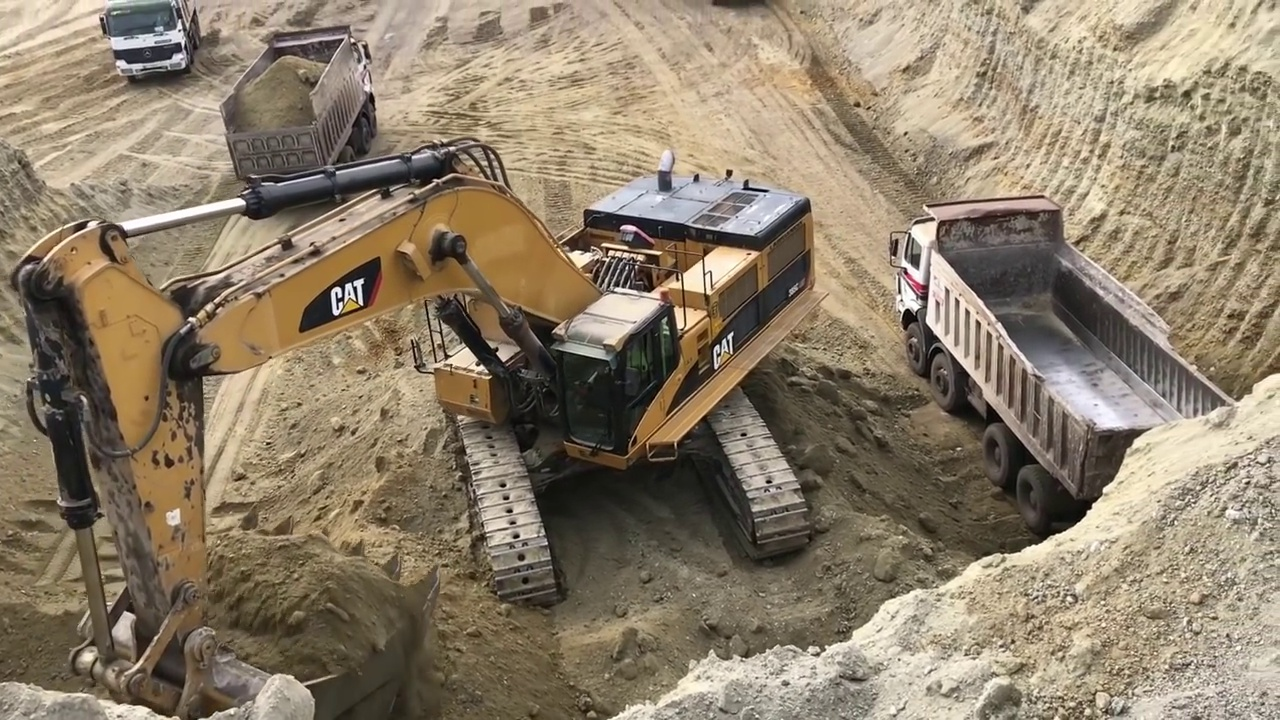excavator: (7, 139, 822, 704)
truck: (885, 197, 1238, 535), (220, 23, 378, 186), (97, 9, 197, 80)
